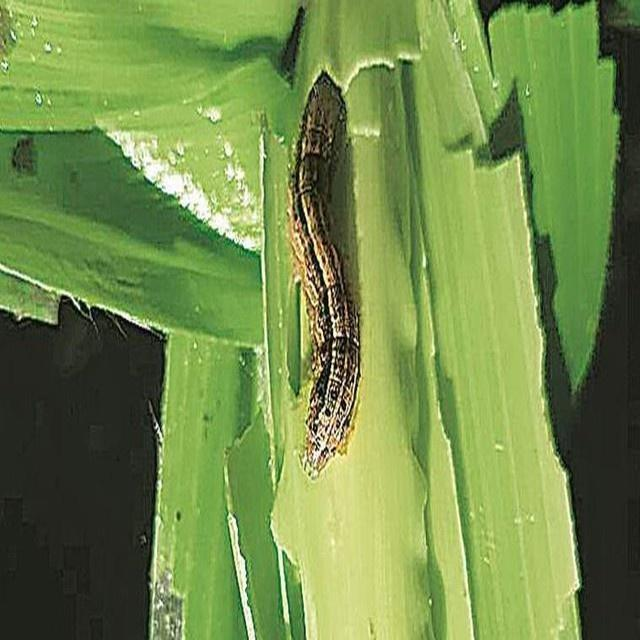gusano_cogollero: (292, 67, 354, 478)
